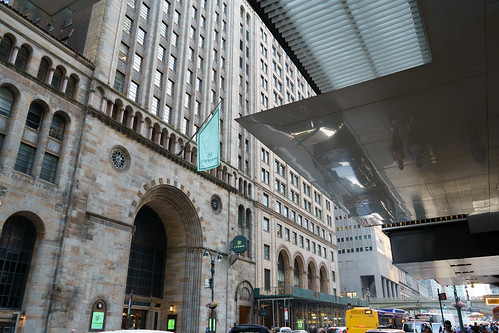building: (4, 1, 327, 320), (339, 214, 395, 321)
flag: (179, 103, 229, 173)
